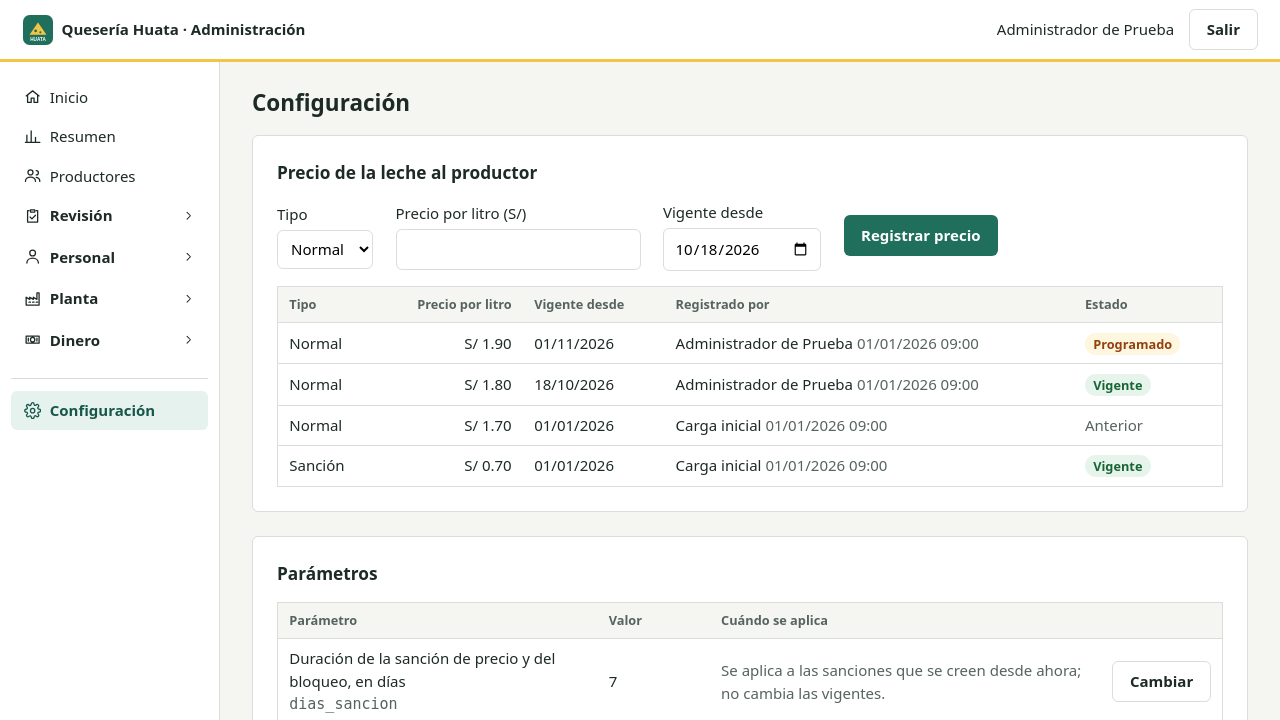
Test: configuración: precio de la leche › con una fecha pasada avisa que afecta entregas ya registradas; el 409 de la base se muestra
The image size is (1280, 720).
Expected: the table named "Historial de precios" is shown, [277,286,1223,487]
Type "1.75" into the field labelled "Precio por litro (S/)" at coordinates (518, 249), box [396,229,640,270]
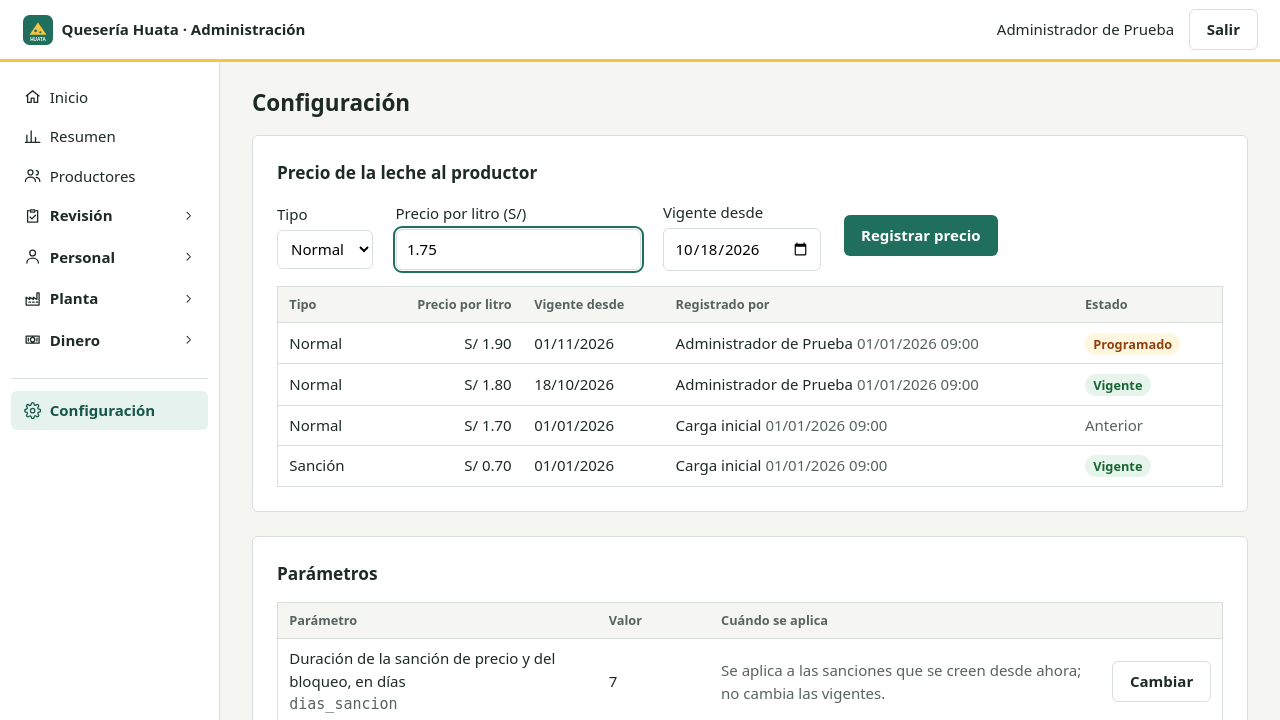
Type "2026-10-01" into the date field labelled "Vigente desde" at coordinates (742, 249), box [663,228,821,271]
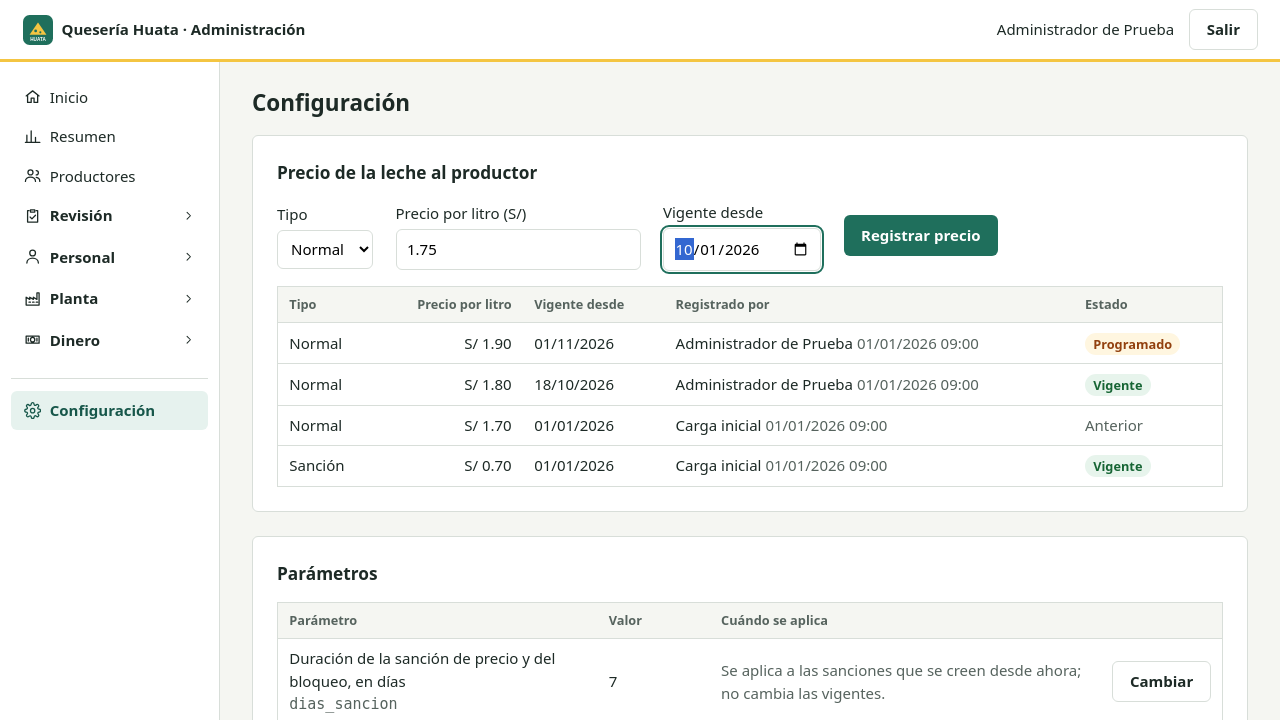
Click the button "Registrar precio" at coordinates (921, 236), box [844,215,998,256]
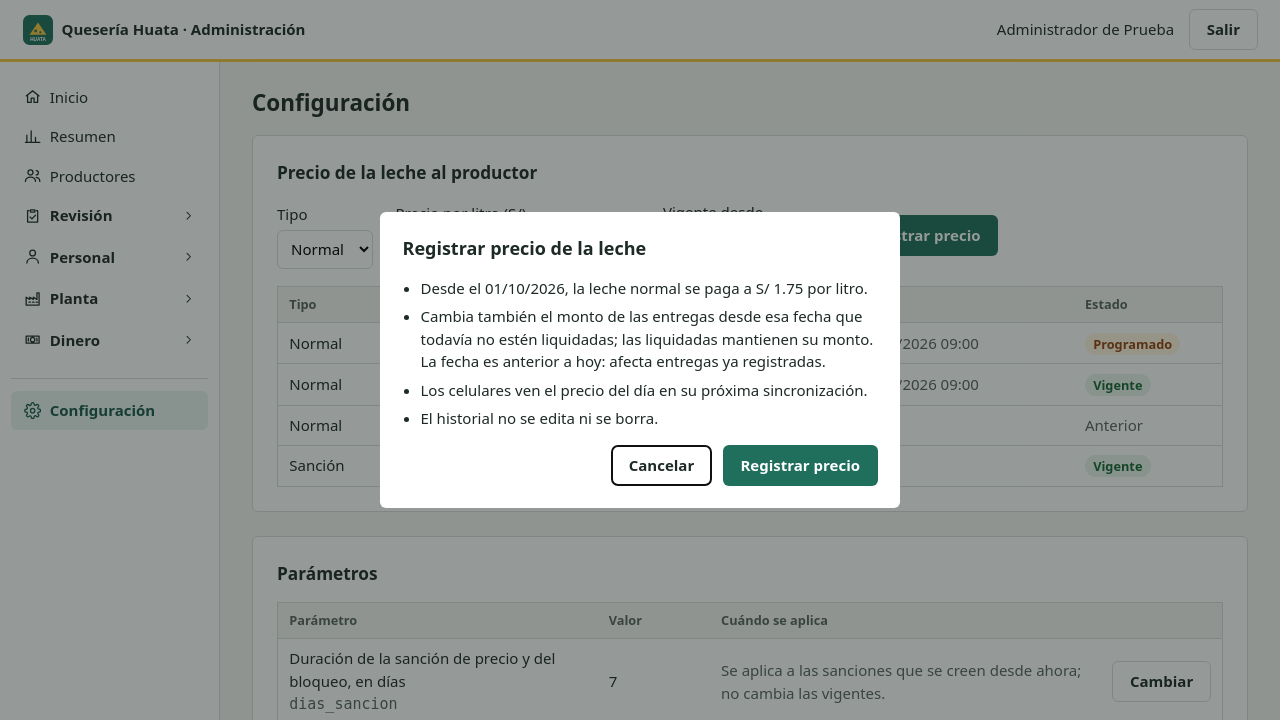
Now the dialog shows "La fecha es anterior a hoy: afecta entregas ya registradas.", box [420,351,826,371]
Click the button "Registrar precio" at coordinates (800, 465), box [723,444,878,486]
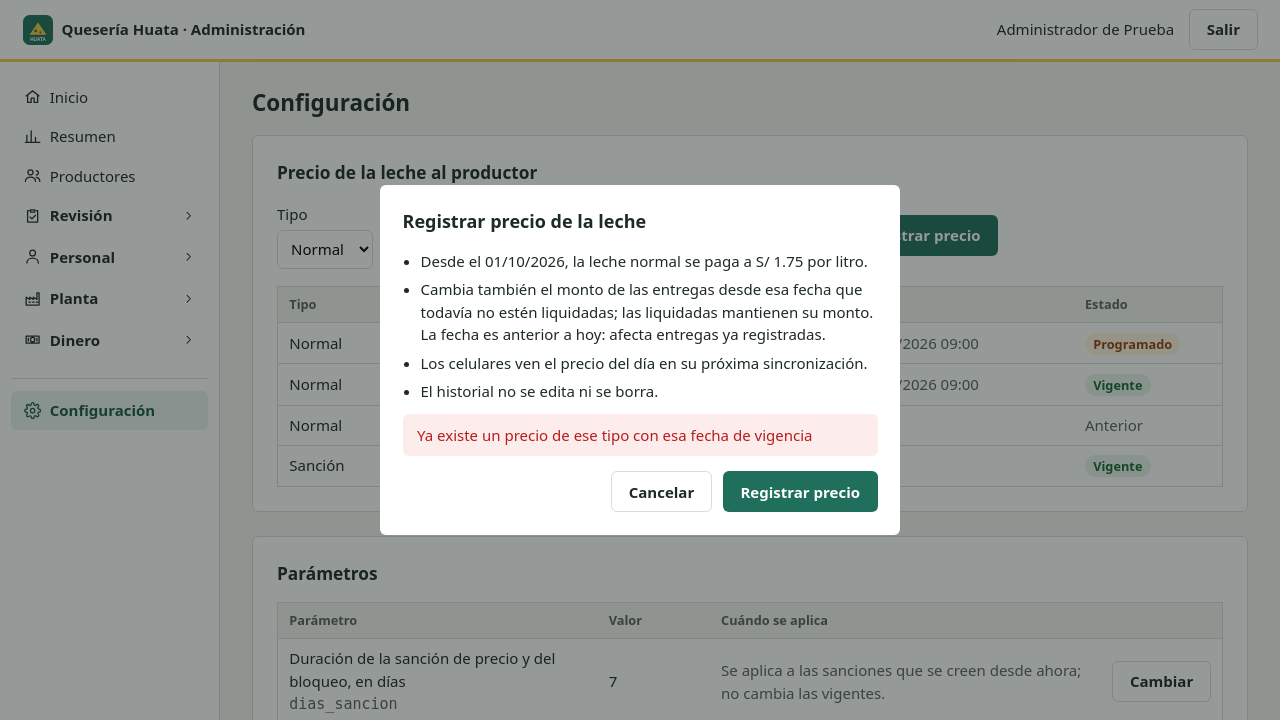
Now the message reads "Ya existe un precio de ese tipo con esa fecha de vigencia", box [417,425,812,445]
